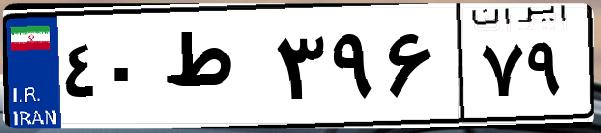0: (110, 28, 158, 98)
3: (270, 28, 330, 110)
4: (57, 26, 110, 100)
6: (385, 28, 445, 110)
7: (475, 38, 525, 113)
9: (330, 28, 385, 110), (525, 38, 570, 115)
ط: (158, 20, 270, 120)
